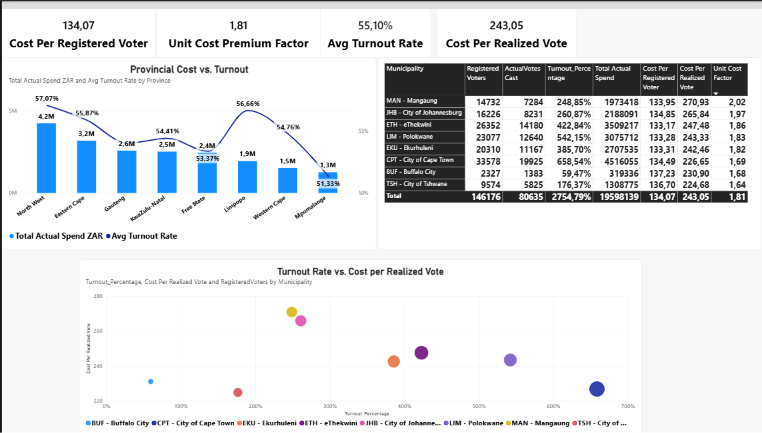

The page's visual inventory and layout, read from the dashboard file:
{"tool":"powerbi","page":{"name":"Turnout Impact & Unit Cost Analysis","canvas":[1920,1080],"ordinal":1},"visuals":[{"type":"card","fields":{"Values":["df_ops.Cost Per Registered Voter"]},"box":[0,0,388.1,124.7],"z":0},{"type":"card","fields":{"Values":["df_ops.Cost Per Realized Vote"]},"box":[1097.7,0,352,124.7],"z":1000},{"type":"card","fields":{"Values":["df_ops.Unit Cost Premium Factor"]},"box":[390.8,0,413,124.7],"z":2000},{"type":"card","fields":{"Values":["df_ops.Avg Turnout Rate"]},"box":[803.9,0,280,124.7],"z":3000},{"type":"scatterChart","title":"Turnout Rate vs. Cost per Realized Vote","fields":{"X":["Sum(df_ops.Turnout_Percentage)"],"Y":["df_ops.Cost Per Realized Vote"],"Size":["Sum(df_ops.RegisteredVoters)"],"Series":["df_ops.Municipality"]},"box":[194,634.8,1422,446.3],"z":4000},{"type":"lineStackedColumnComboChart","title":"Provincial Cost vs. Turnout","fields":{"Category":["df_ops.Province"],"Y":["df_ops.Total Actual Spend ZAR"],"Y2":["df_ops.Avg Turnout Rate"]},"box":[0,124.7,945.2,485.1],"z":5000},{"type":"pivotTable","title":"Municipal Unit Cost Audit Ledger","fields":{"Rows":["df_ops.Municipality"],"Values":["Sum(df_ops.RegisteredVoters)","Sum(df_ops.Actual_Votes_Cast)","Sum(df_ops.Turnout_Percentage)","df_ops.Total Actual Spend ZAR","df_ops.Cost Per Registered Voter","df_ops.Cost Per Realized Vote","df_ops.Unit Cost Premium Factor"]},"box":[950.8,124.7,970.2,485.1],"z":6000}]}

Visuals, with their boxes in screenshot pixels (x1, y1, x2, y2), scaled from the page's 1920x1080 canvas onto the 762x433 screenshot:
card - df_ops.Cost Per Registered Voter: bbox(0, 0, 154, 50)
card - df_ops.Cost Per Realized Vote: bbox(436, 0, 575, 50)
card - df_ops.Unit Cost Premium Factor: bbox(155, 0, 319, 50)
card - df_ops.Avg Turnout Rate: bbox(319, 0, 430, 50)
"Turnout Rate vs. Cost per Realized Vote" scatterChart: bbox(77, 255, 641, 432)
"Provincial Cost vs. Turnout" lineStackedColumnComboChart: bbox(0, 50, 375, 244)
"Municipal Unit Cost Audit Ledger" pivotTable: bbox(377, 50, 761, 244)
